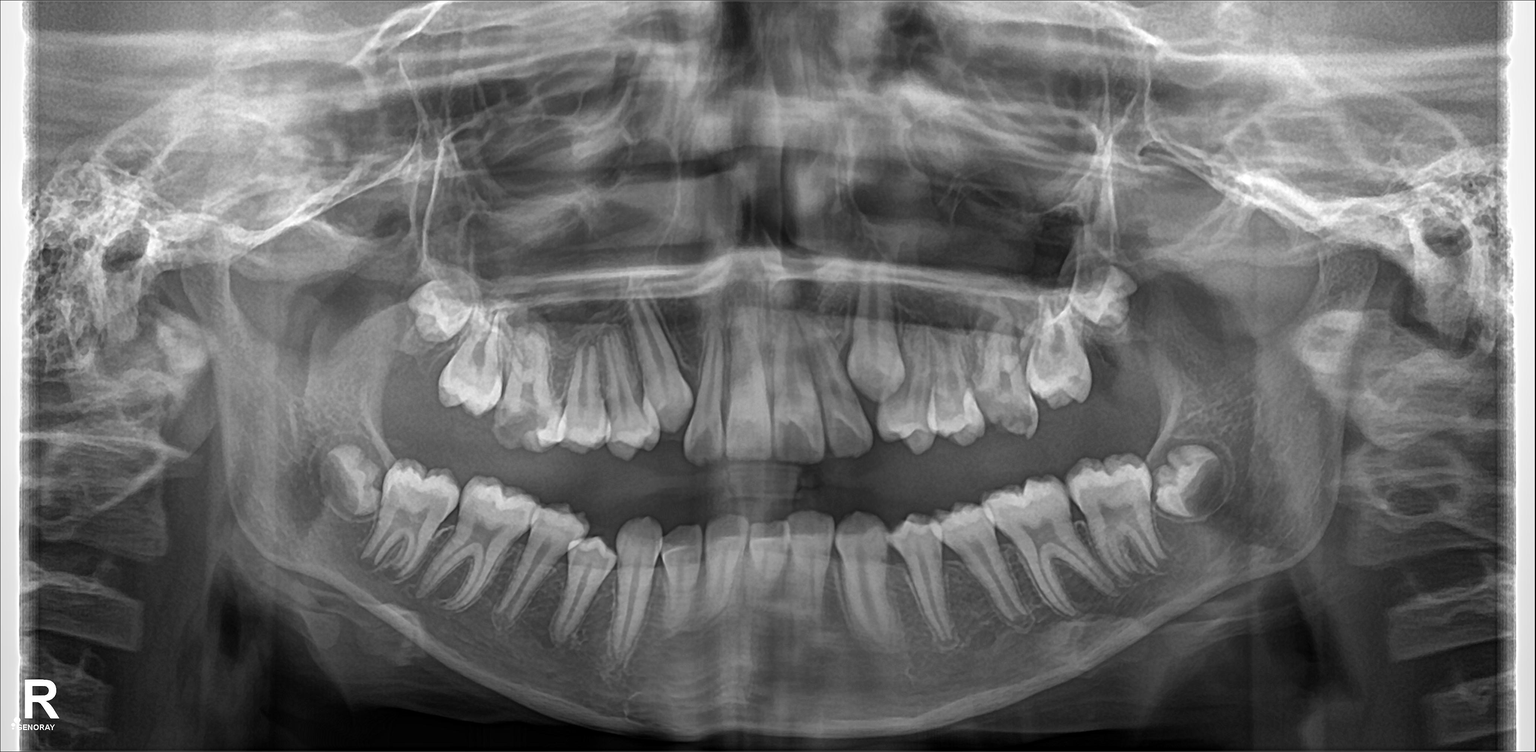Dental Caries: (981, 391, 1035, 439), (499, 402, 560, 436), (685, 426, 724, 457), (782, 423, 810, 463), (832, 419, 858, 453)
Impacted Third Molar: (1140, 449, 1243, 521), (387, 277, 472, 338), (320, 436, 375, 515), (1078, 266, 1132, 331)
